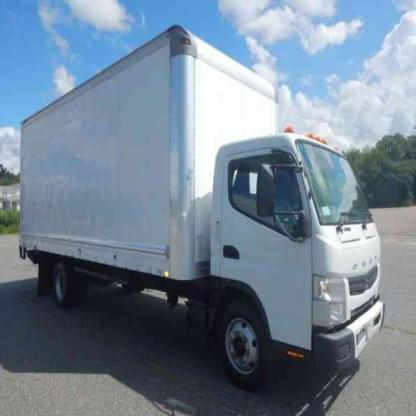truck: (18, 26, 388, 388)
